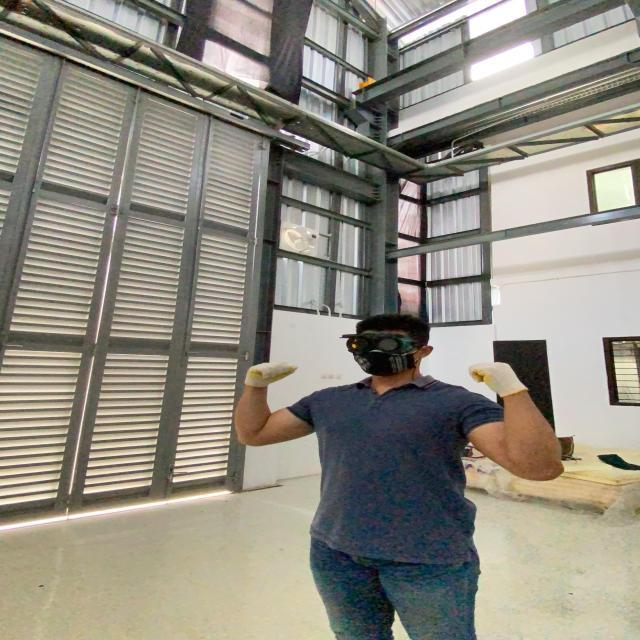glasses: (330, 328, 428, 354)
